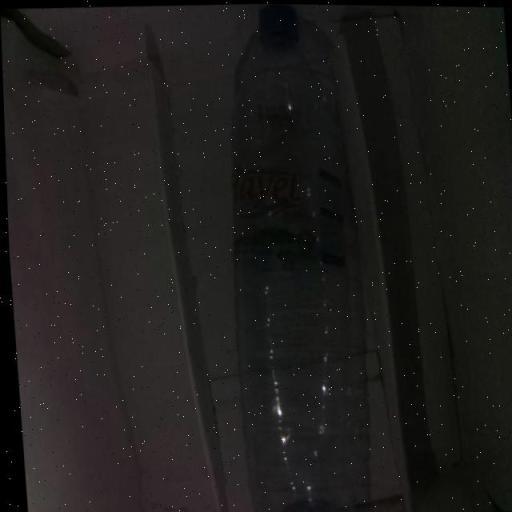plastic: (200, 2, 386, 512)
